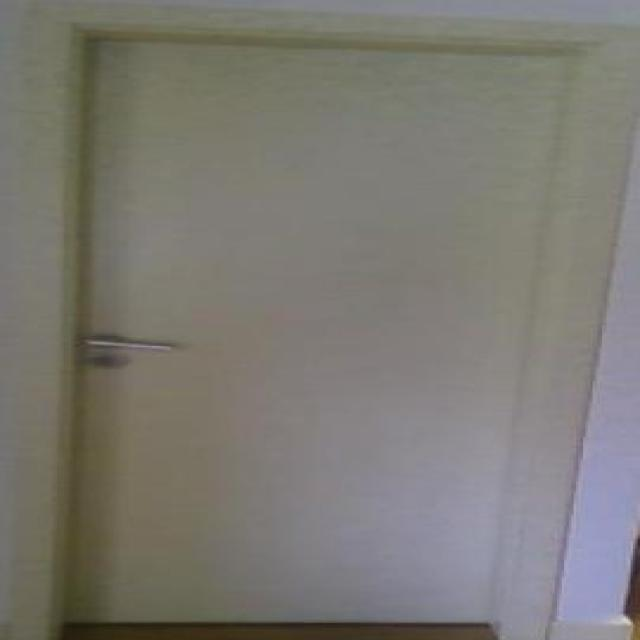door_handle: (74, 332, 187, 359)
